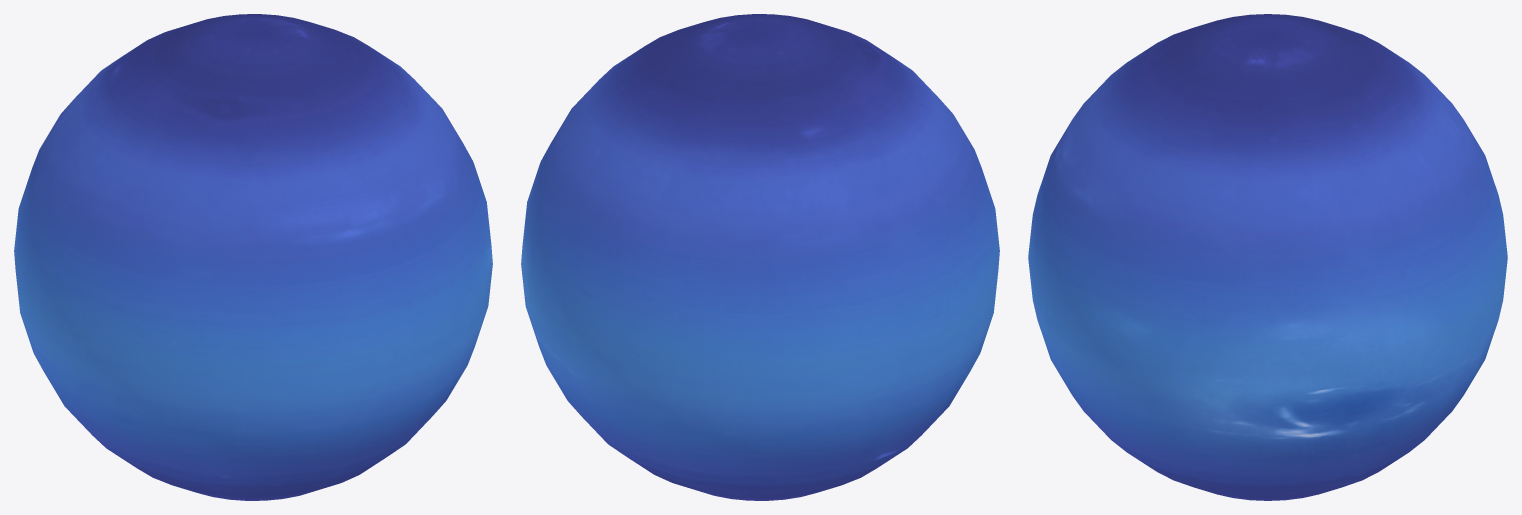
The model's file is neptuno.glb.
The picture shows the model from 3 angles, left to right: view 1: azimuth 30°, elevation 25°; view 2: azimuth 150°, elevation 25°; view 3: azimuth 270°, elevation 25°; orthographic projection.
Visible parts, largest first — view 1: Esfera; view 2: Esfera; view 3: Esfera.
Part boxes in pixels (x1,y1,x2,y2): Esfera: [14, 14, 492, 500]; Esfera: [521, 14, 999, 500]; Esfera: [1028, 14, 1507, 500].
Size of the model in its own units: 1.89 by 1.92 by 1.89.
Materials: 1 (1 with a texture image).
